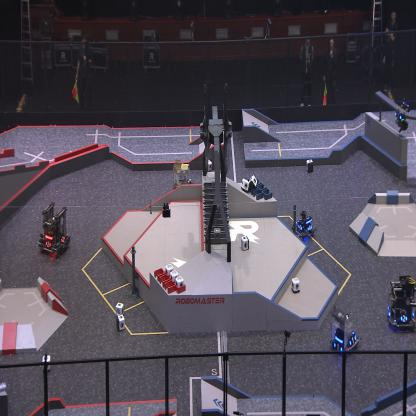car: (37, 200, 72, 259), (386, 274, 416, 333), (330, 307, 359, 356), (172, 158, 193, 204), (292, 210, 317, 241)
